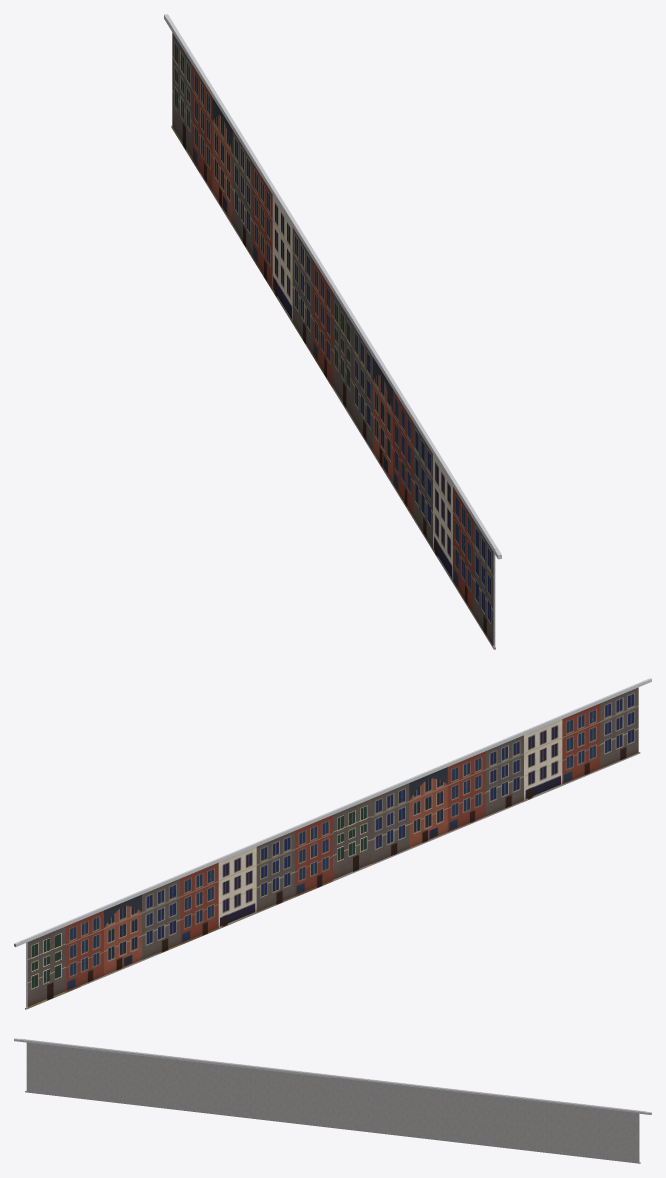
The picture shows the model from 3 angles, top to bottom: view 1: azimuth 30°, elevation 25°; view 2: azimuth 150°, elevation 25°; view 3: azimuth 270°, elevation 25°; orthographic projection. The views are drawn at different scales.
Visible parts, largest first — view 1: bldg_6008398321_facade4; view 2: bldg_6008398321_facade4; view 3: bldg_6008398321_facade4.
Part boxes in pixels (box(x1,y1,x2,y2)): bldg_6008398321_facade4: box(164, 14, 501, 649); bldg_6008398321_facade4: box(14, 678, 651, 1009); bldg_6008398321_facade4: box(14, 1038, 651, 1163).
Size of the model in its own units: 29.43 by 9.59 by 106.
Materials: 4 (2 with a texture image).
